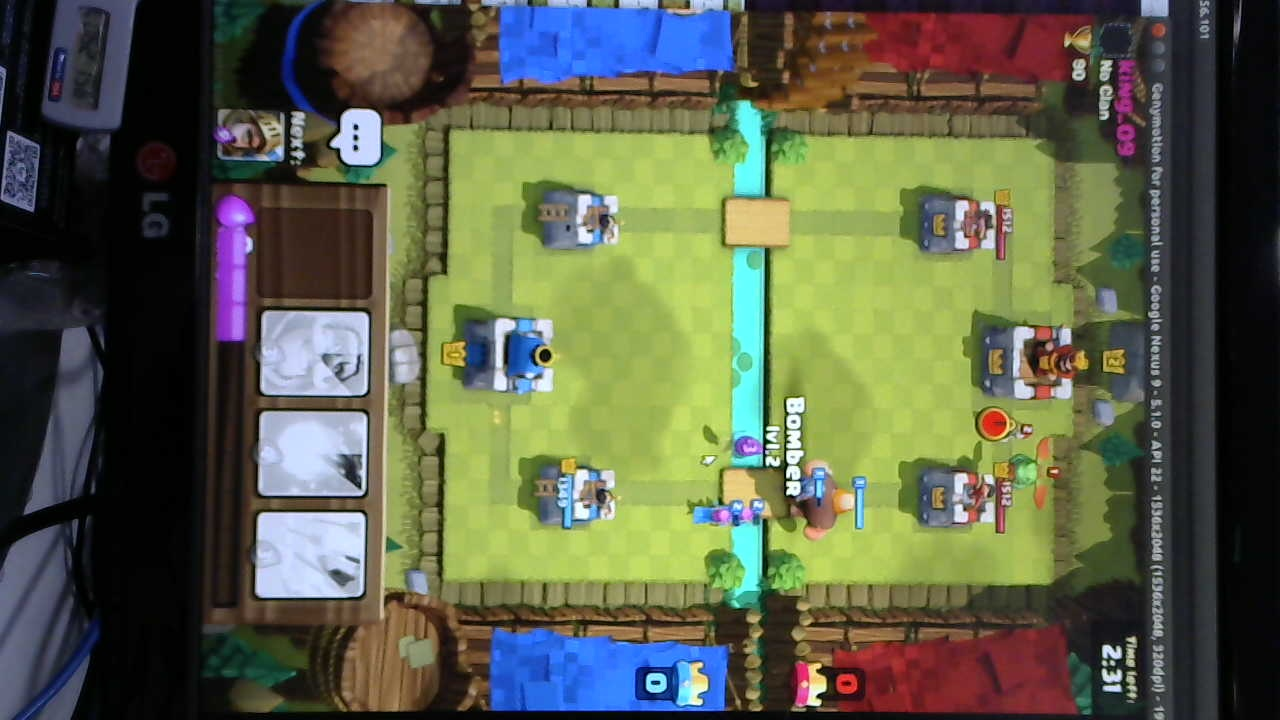archers: (680, 495, 769, 532)
arena: (538, 465, 616, 527), (546, 189, 622, 250)
bomb: (999, 416, 1035, 445)
dragon: (1009, 444, 1053, 512)
earena: (919, 194, 997, 258), (919, 467, 997, 528)
eking: (975, 322, 1078, 403)
giant: (797, 460, 857, 539)
king: (459, 310, 556, 394)
musketeer: (783, 471, 828, 509)
